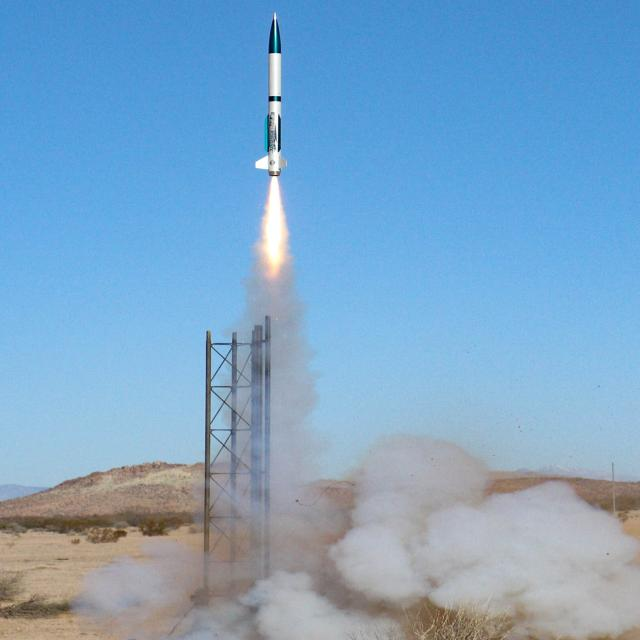Rocket: (254, 11, 288, 176)
